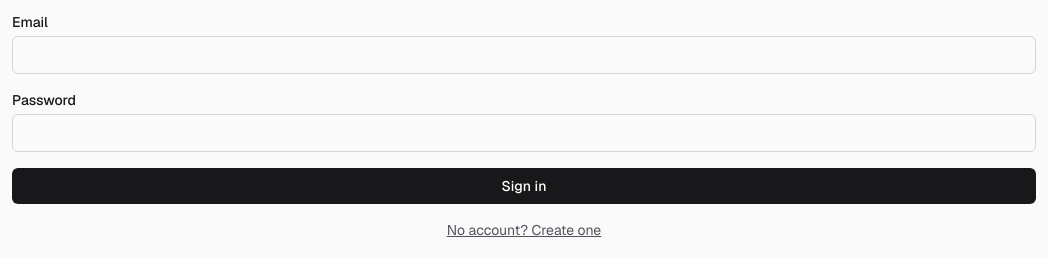
Test: login › switches between sign-in and sign-up
Click the button "No account? Create one". click: [524, 230]
box: 12,220 -> 1036,240
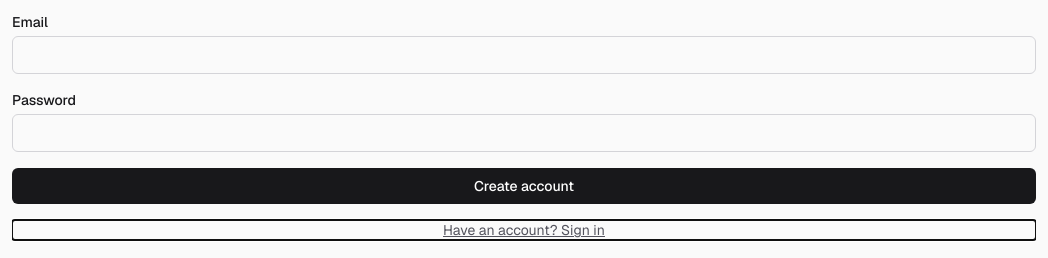
Expected: the button "Create account" is shown, 12,168 -> 1036,204
